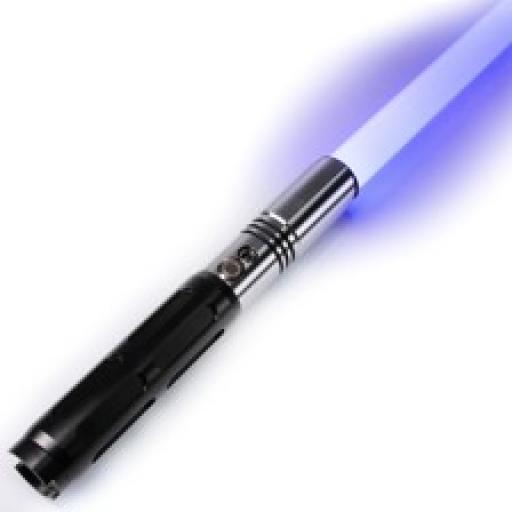lightsaber: (10, 0, 512, 500)
